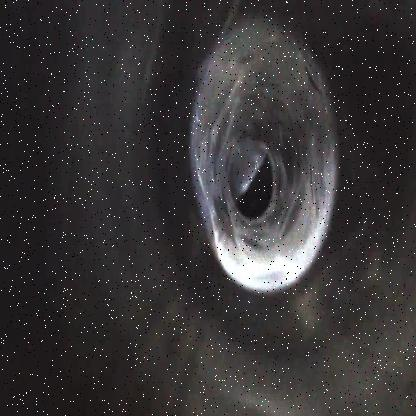Crack: (188, 12, 338, 295)
